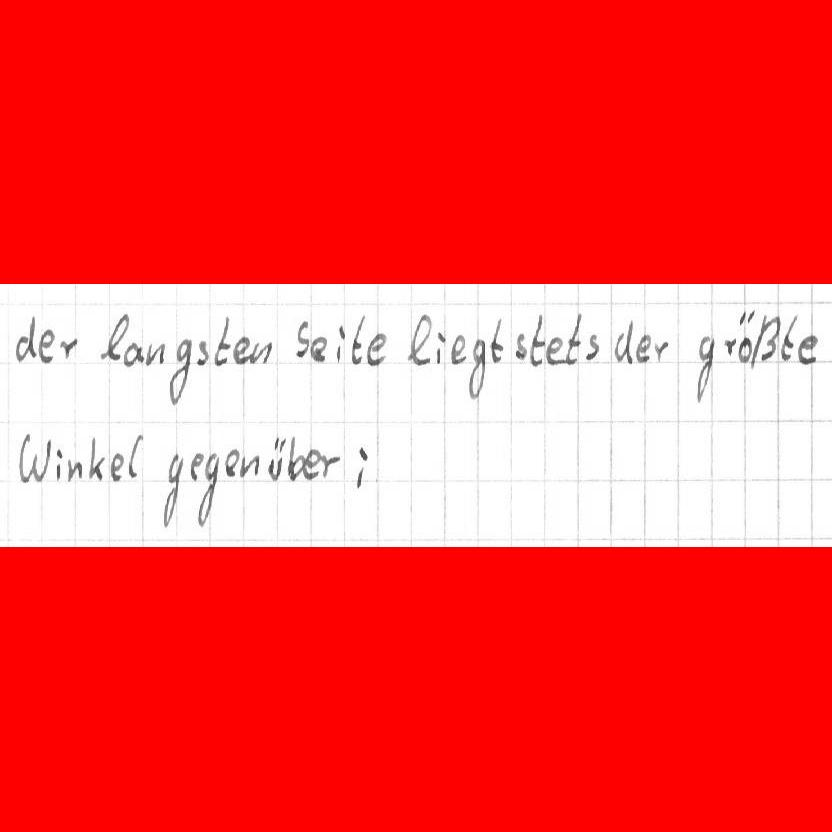Char: (159, 452, 184, 531), (691, 331, 716, 404), (18, 432, 52, 484), (195, 451, 218, 527), (749, 313, 780, 369), (167, 337, 192, 405), (405, 312, 434, 369), (99, 312, 129, 362), (13, 314, 38, 363), (466, 338, 485, 399), (735, 309, 754, 366), (559, 311, 578, 365), (612, 318, 634, 364), (778, 314, 798, 363), (266, 435, 286, 484), (213, 314, 232, 365), (528, 313, 545, 369), (286, 433, 305, 483), (349, 313, 366, 366), (87, 435, 106, 481), (365, 332, 389, 366), (352, 445, 370, 490), (119, 340, 145, 369), (489, 317, 505, 364), (127, 434, 144, 478), (37, 328, 57, 365), (248, 340, 276, 366), (797, 334, 819, 365), (318, 452, 343, 479), (294, 318, 310, 360), (230, 334, 251, 365), (302, 447, 321, 480), (143, 340, 168, 365), (544, 334, 563, 366), (238, 453, 261, 479), (223, 445, 241, 478), (309, 335, 330, 363), (634, 332, 652, 364), (58, 335, 79, 361), (450, 333, 467, 365), (108, 450, 124, 482), (188, 452, 204, 482), (335, 323, 346, 366), (66, 457, 83, 484), (435, 330, 447, 366), (514, 332, 529, 360), (585, 334, 600, 361), (652, 340, 668, 364), (196, 339, 208, 366), (55, 446, 64, 482), (723, 335, 735, 358)
